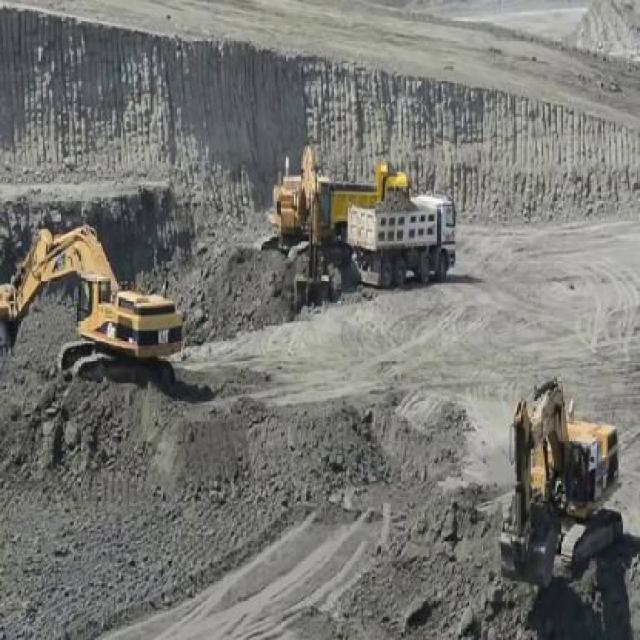Dump Truck: (348, 191, 455, 287)
Excavator: (0, 224, 183, 384), (497, 374, 625, 591), (269, 142, 334, 312)
